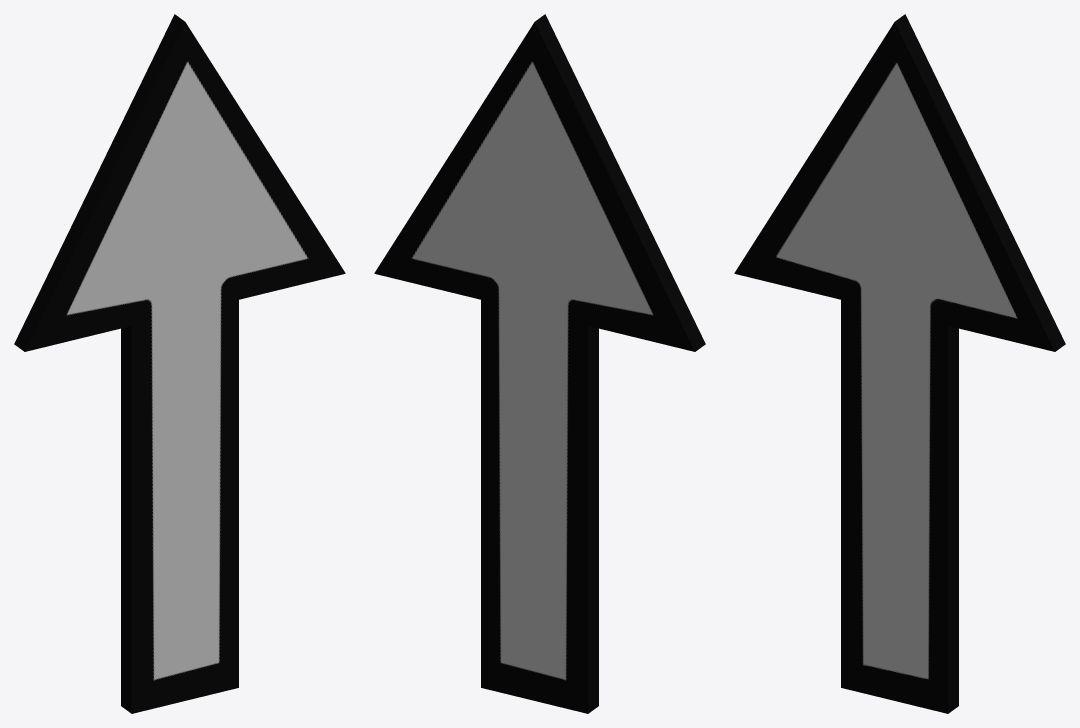
Rendered from Arrow1.fbx.
3 views of the same model, side by side, from view 1: azimuth 30°, elevation 25°; view 2: azimuth 150°, elevation 25°; view 3: azimuth 330°, elevation 25° (orthographic).
Parts seen in each view (by area): view 1: Circle; view 2: Circle; view 3: Circle.
Part boxes in pixels (left/top/right/bottom): Circle: left=14, top=14, right=345, bottom=713; Circle: left=374, top=14, right=705, bottom=713; Circle: left=734, top=14, right=1065, bottom=713.
Bounding box in the file's own units: 0.1732 × 0.35 × 0.01.
Materials: 1 (1 with a texture image).
